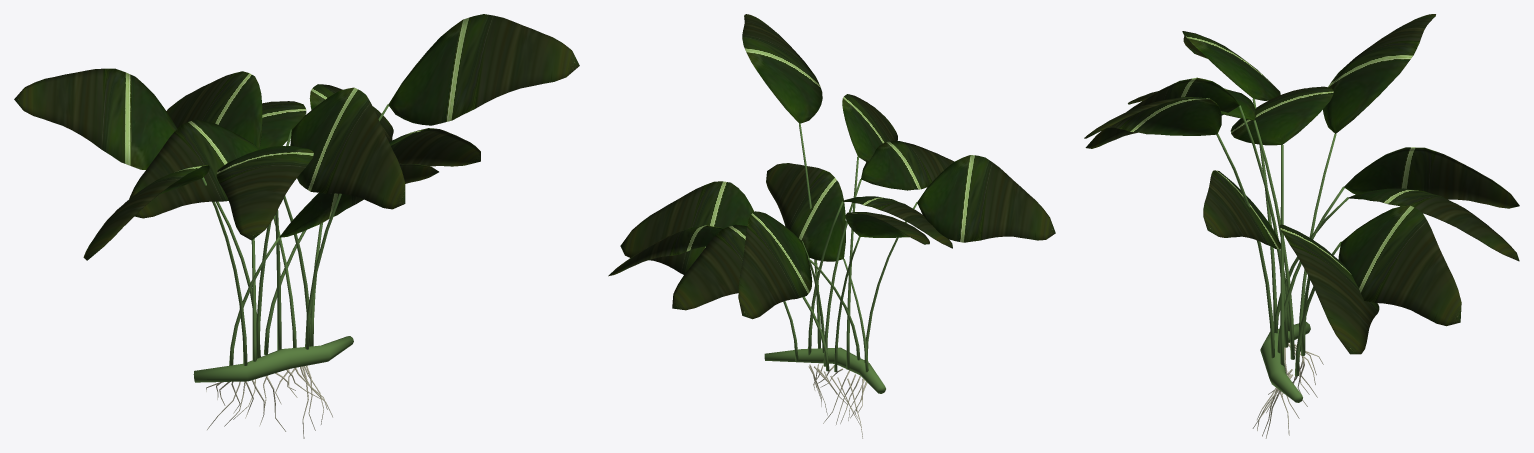
Rendered from anubias-mobile.glb.
3 views of the same model, side by side, from view 1: azimuth 30°, elevation 25°; view 2: azimuth 150°, elevation 25°; view 3: azimuth 270°, elevation 25° (orthographic). The views are drawn at different scales.
Parts seen in each view (by area): view 1: photographic-broad-leaf.008, photographic-broad-leaf.004, photographic-broad-leaf.003, photographic-broad-leaf.009, photographic-broad-leaf.006, photographic-broad-leaf.007, creeping-rhizome, photographic-broad-leaf.005, photographic-broad-leaf.001, photographic-broad-leaf, photographic-broad-leaf.002, photographic-broad-leaf.010 (+4 smaller); view 2: photographic-broad-leaf.001, photographic-broad-leaf.007, photographic-broad-leaf, photographic-broad-leaf.005, photographic-broad-leaf.008, photographic-broad-leaf.002, photographic-broad-leaf.006, photographic-broad-leaf.003, photographic-broad-leaf.010, creeping-rhizome, photographic-broad-leaf.004, photographic-broad-leaf.009 (+4 smaller); view 3: photographic-broad-leaf.010, photographic-broad-leaf.007, photographic-broad-leaf.004, photographic-broad-leaf.005, photographic-broad-leaf.008, photographic-broad-leaf.009, photographic-broad-leaf, photographic-broad-leaf.002, photographic-broad-leaf.001, photographic-broad-leaf.003, creeping-rhizome, curved-petiole.009 (+8 smaller).
Boxes of the visible parts, x1,y1,x2,y2 form: photographic-broad-leaf.008: (388, 14, 579, 125); photographic-broad-leaf.004: (14, 68, 177, 169); photographic-broad-leaf.003: (290, 87, 405, 209); photographic-broad-leaf.009: (129, 119, 259, 218); photographic-broad-leaf.006: (216, 146, 313, 240); photographic-broad-leaf.007: (166, 71, 262, 148); creeping-rhizome: (193, 336, 353, 382); photographic-broad-leaf.005: (389, 128, 480, 166); photographic-broad-leaf.001: (83, 165, 209, 260); photographic-broad-leaf: (279, 163, 438, 237); photographic-broad-leaf.002: (259, 101, 306, 149); photographic-broad-leaf.010: (309, 84, 393, 141); photographic-broad-leaf.001: (917, 155, 1055, 242); photographic-broad-leaf.007: (738, 211, 812, 319); photographic-broad-leaf: (766, 163, 845, 261); photographic-broad-leaf.005: (620, 181, 753, 274); photographic-broad-leaf.008: (742, 14, 822, 123); photographic-broad-leaf.002: (672, 224, 746, 310); photographic-broad-leaf.006: (861, 141, 954, 190); photographic-broad-leaf.003: (842, 94, 897, 162); photographic-broad-leaf.010: (608, 225, 722, 276); creeping-rhizome: (764, 347, 885, 393); photographic-broad-leaf.004: (845, 212, 929, 244); photographic-broad-leaf.009: (843, 196, 952, 248); photographic-broad-leaf.010: (1338, 205, 1461, 326); photographic-broad-leaf.007: (1344, 147, 1519, 208); photographic-broad-leaf.004: (1323, 14, 1435, 133); photographic-broad-leaf.005: (1279, 224, 1379, 354); photographic-broad-leaf.008: (1084, 97, 1221, 138); photographic-broad-leaf.009: (1230, 86, 1333, 145); photographic-broad-leaf: (1203, 170, 1281, 249); photographic-broad-leaf.002: (1348, 188, 1519, 261); photographic-broad-leaf.001: (1182, 31, 1280, 100); photographic-broad-leaf.003: (1085, 77, 1239, 148); creeping-rhizome: (1260, 322, 1310, 402); curved-petiole.009: (1280, 145, 1284, 366).
Size of the model in its own units: 0.7804 by 0.6584 by 0.6302.
Materials: 3 (1 with a texture image).
